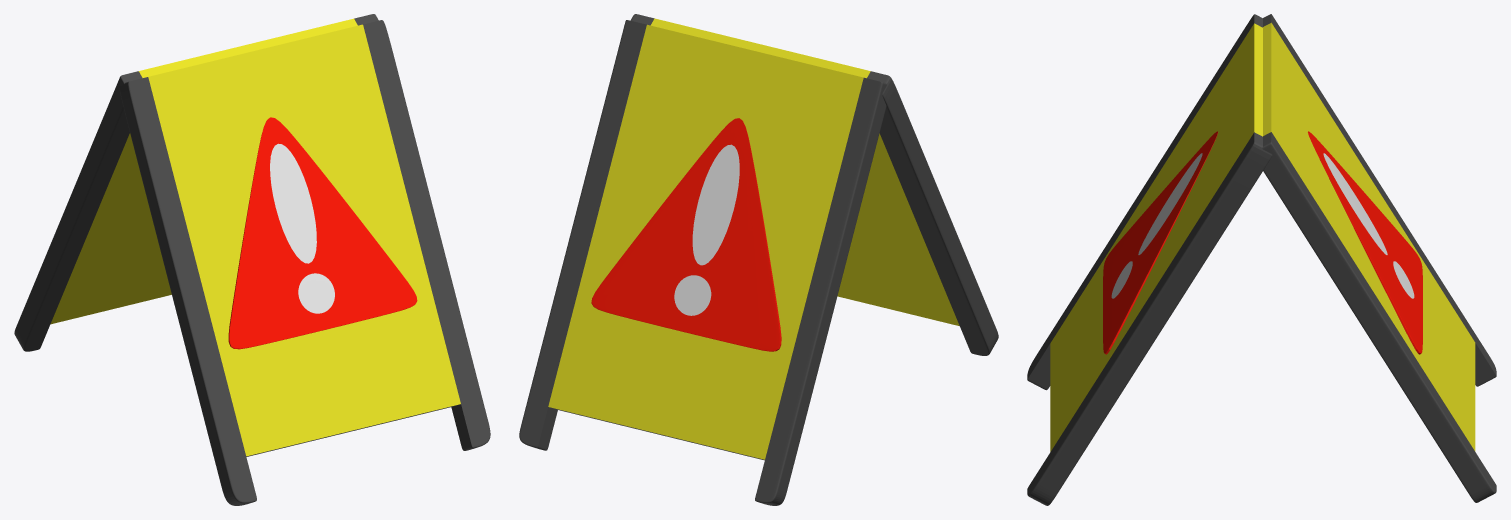
The model's file is warning.fbx.
3 renders of one model, left to right at view 1: azimuth 30°, elevation 25°; view 2: azimuth 150°, elevation 25°; view 3: azimuth 270°, elevation 25°, orthographic. The views are drawn at different scales.
Visible parts, largest first — view 1: Cube, Cube.002, Sphere.002, Sphere.003; view 2: Cube, Cube.001, Sphere.001, Sphere; view 3: Cube, Cube.001, Cube.002, Sphere.002, Sphere.001.
Boxes of the visible parts, bbox=[...] form: Cube: bbox=[14, 14, 490, 505]; Cube.002: bbox=[228, 117, 417, 349]; Sphere.002: bbox=[270, 143, 316, 263]; Sphere.003: bbox=[298, 273, 334, 313]; Cube: bbox=[519, 14, 998, 505]; Cube.001: bbox=[591, 118, 781, 351]; Sphere.001: bbox=[692, 144, 739, 265]; Sphere: bbox=[674, 275, 711, 315]; Cube: bbox=[1027, 14, 1496, 505]; Cube.001: bbox=[1308, 131, 1422, 354]; Cube.002: bbox=[1103, 131, 1217, 354]; Sphere.002: bbox=[1138, 153, 1202, 254]; Sphere.001: bbox=[1323, 153, 1387, 254].
Bounding box in the file's own units: 200 × 262 × 303.
